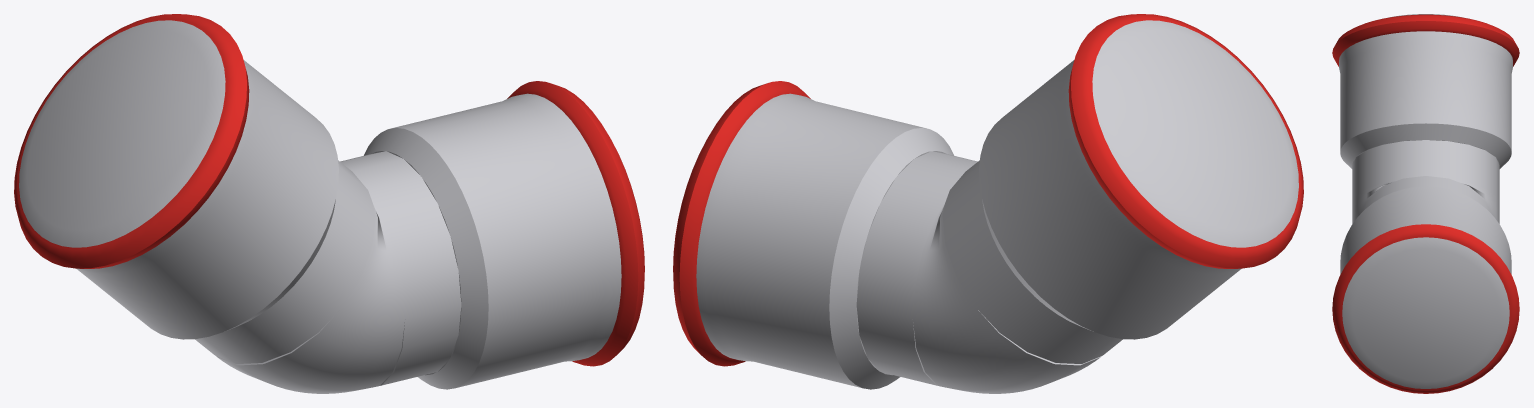
File: fitting_e45_42_r.glb
3 renders of one model, left to right at view 1: azimuth 30°, elevation 25°; view 2: azimuth 150°, elevation 25°; view 3: azimuth 270°, elevation 25°, orthographic. The views are drawn at different scales.
Parts seen in each view (by area): view 1: раструб.001, раструб, корпус, изгиб, корпус.001, кольцо пресс.001, кольцо пресс; view 2: раструб.001, раструб, корпус, изгиб, корпус.001, кольцо пресс.001, кольцо пресс; view 3: раструб, раструб.001, корпус.001, кольцо пресс, кольцо пресс.001, корпус, изгиб.
Part boxes in pixels (x1,y1,x2,y2): раструб.001: (19,20,338,339); раструб: (364,93,621,389); корпус: (340,151,461,385); изгиб: (216,201,405,393); корпус.001: (195,160,375,363); кольцо пресс.001: (14,14,249,268); кольцо пресс: (507,81,644,366); раструб.001: (979,20,1298,339); раструб: (696,93,953,389); корпус: (856,151,977,385); изгиб: (912,201,1101,393); корпус.001: (942,160,1122,363); кольцо пресс.001: (1068,14,1303,268); кольцо пресс: (673,81,810,366); раструб: (1340,186,1511,388); раструб.001: (1339,14,1512,168); корпус.001: (1352,140,1499,203); кольцо пресс: (1332,224,1519,393); кольцо пресс.001: (1332,14,1519,66); корпус: (1359,176,1492,215); изгиб: (1352,181,1499,223).
Bounding box in the file's own units: 0.1236 × 0.0903 × 0.0573.
